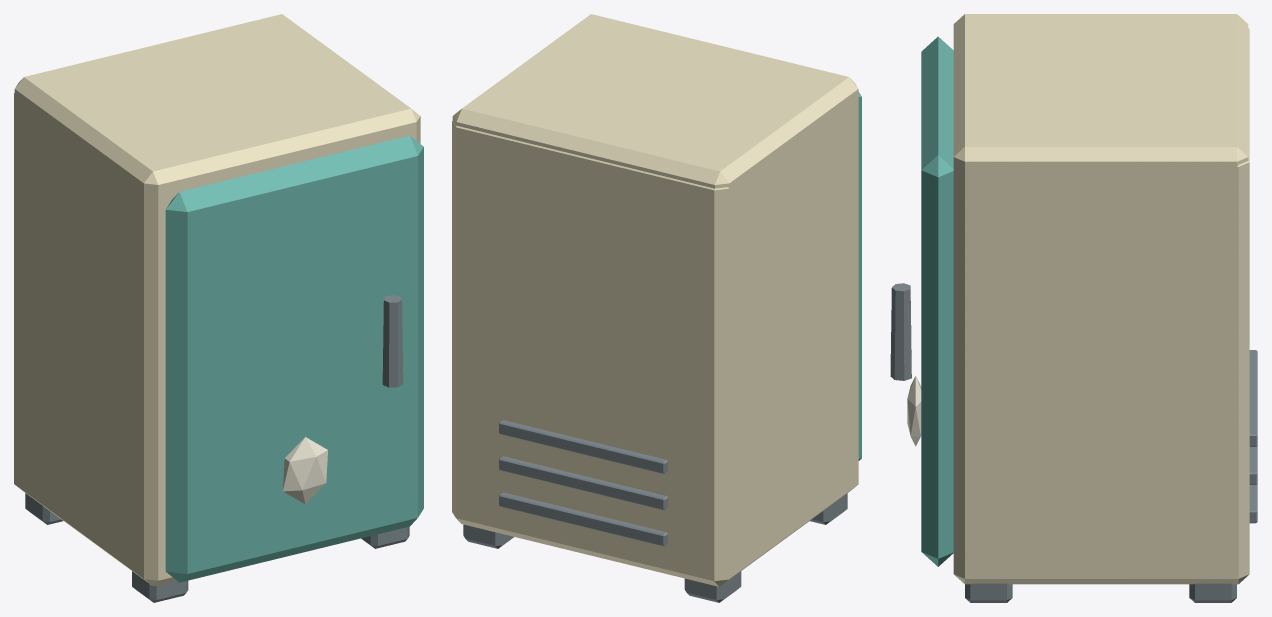
File: CC_Refrigerator.fbx
3 renders of one model, left to right at view 1: azimuth 30°, elevation 25°; view 2: azimuth 150°, elevation 25°; view 3: azimuth 270°, elevation 25°, orthographic. The views are drawn at different scales.
Visible parts, largest first — view 1: Door, Cabinet side, Cabinet top, Cabinet back, Cabinet bottom, Cold badge, Handle.001, Foot.002, Foot.004; view 2: Cabinet back, Cabinet top, Cabinet side, Cabinet bottom, Vent.001, Vent.002, Vent, Door, Foot.003, Foot.005; view 3: Cabinet side.001, Cabinet top, Door, Cabinet back, Cabinet bottom, Handle.001, Foot.004, Foot.005, Vent.002, Cold badge.
Boxes of the visible parts, x1,y1,x2,y2 form: Door: (165, 135, 423, 582); Cabinet side: (24, 116, 176, 585); Cabinet top: (14, 14, 420, 203); Cabinet back: (14, 93, 29, 495); Cabinet bottom: (14, 461, 176, 586); Cold badge: (283, 437, 327, 504); Handle.001: (382, 295, 403, 387); Foot.002: (132, 571, 188, 602); Foot.004: (361, 526, 409, 548); Cabinet back: (452, 120, 739, 586); Cabinet top: (452, 14, 858, 201); Cabinet side: (721, 108, 858, 585); Cabinet bottom: (729, 460, 858, 578); Vent.001: (499, 456, 667, 510); Vent.002: (499, 420, 667, 473); Vent: (499, 492, 667, 546); Door: (858, 92, 861, 460); Foot.003: (684, 571, 741, 602); Foot.005: (463, 524, 513, 548); Cabinet side.001: (953, 163, 1236, 553); Cabinet top: (953, 14, 1248, 181); Door: (921, 36, 953, 566); Cabinet back: (1216, 28, 1249, 584); Cabinet bottom: (953, 549, 1236, 584); Handle.001: (890, 283, 911, 380); Foot.004: (965, 583, 1012, 602); Foot.005: (1189, 583, 1236, 602); Vent.002: (1249, 350, 1257, 446); Cold badge: (907, 376, 921, 446).
Bounding box in the file's own units: 1.2 × 1.8 × 1.31.
